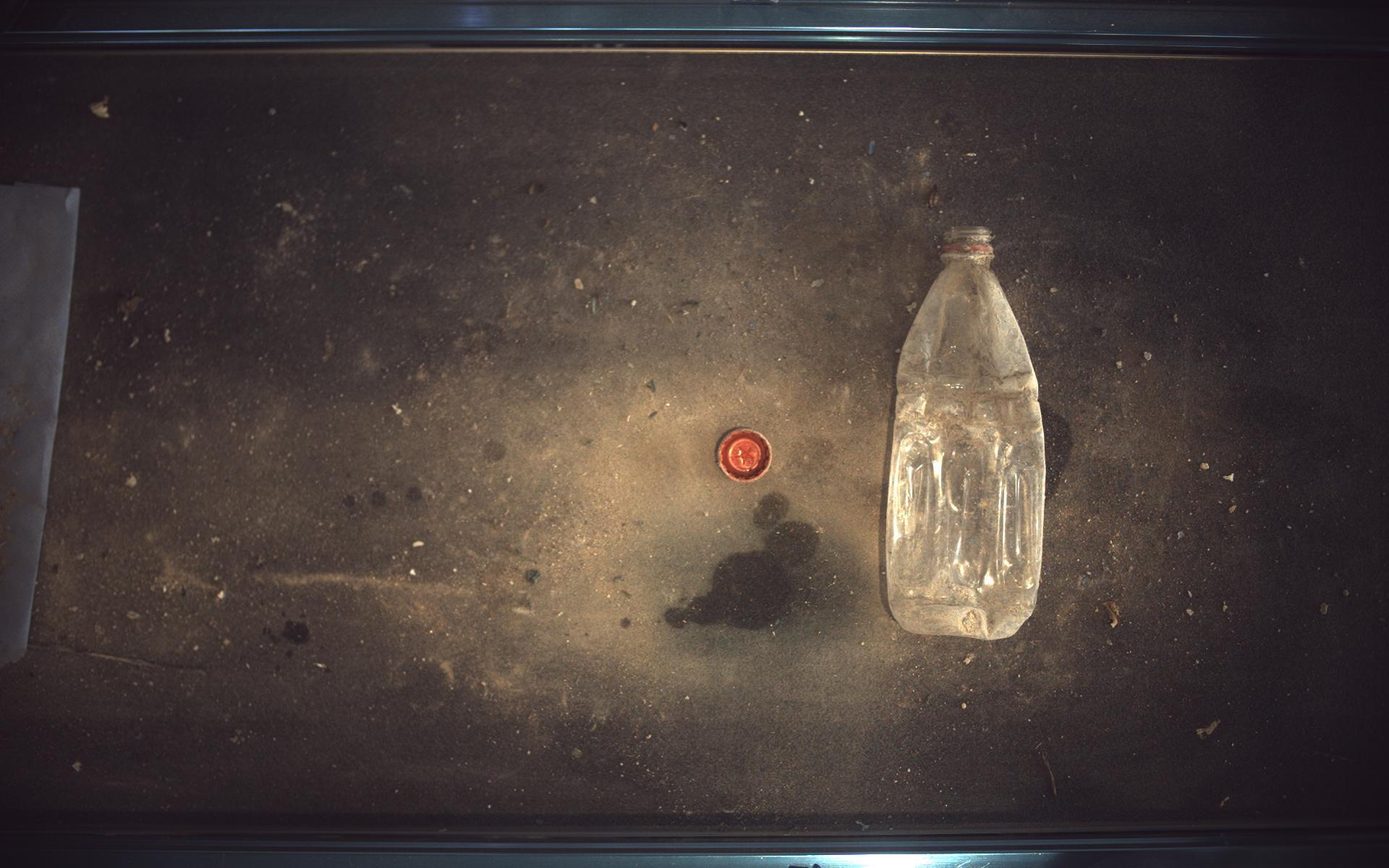general_w: (888, 226, 1048, 640), (718, 429, 773, 482)
